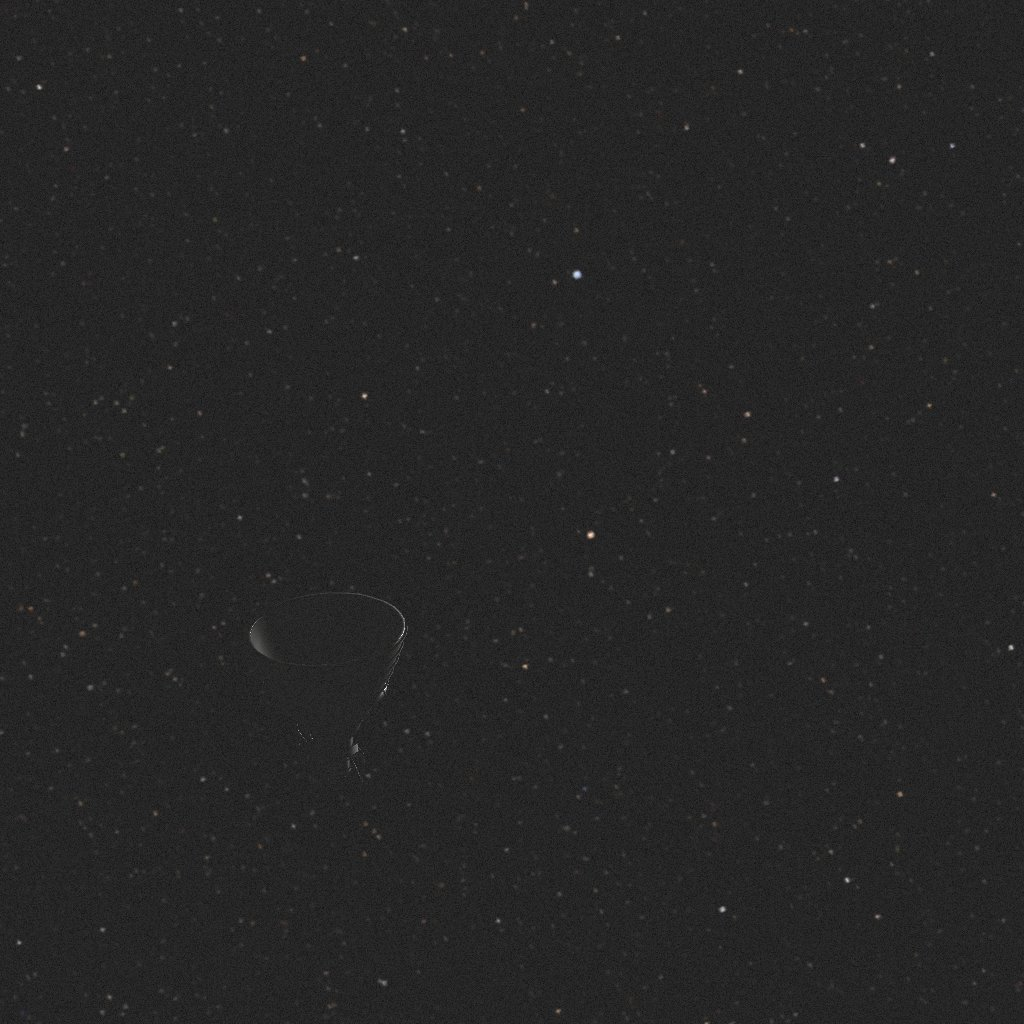debris: (243, 593, 407, 794)
